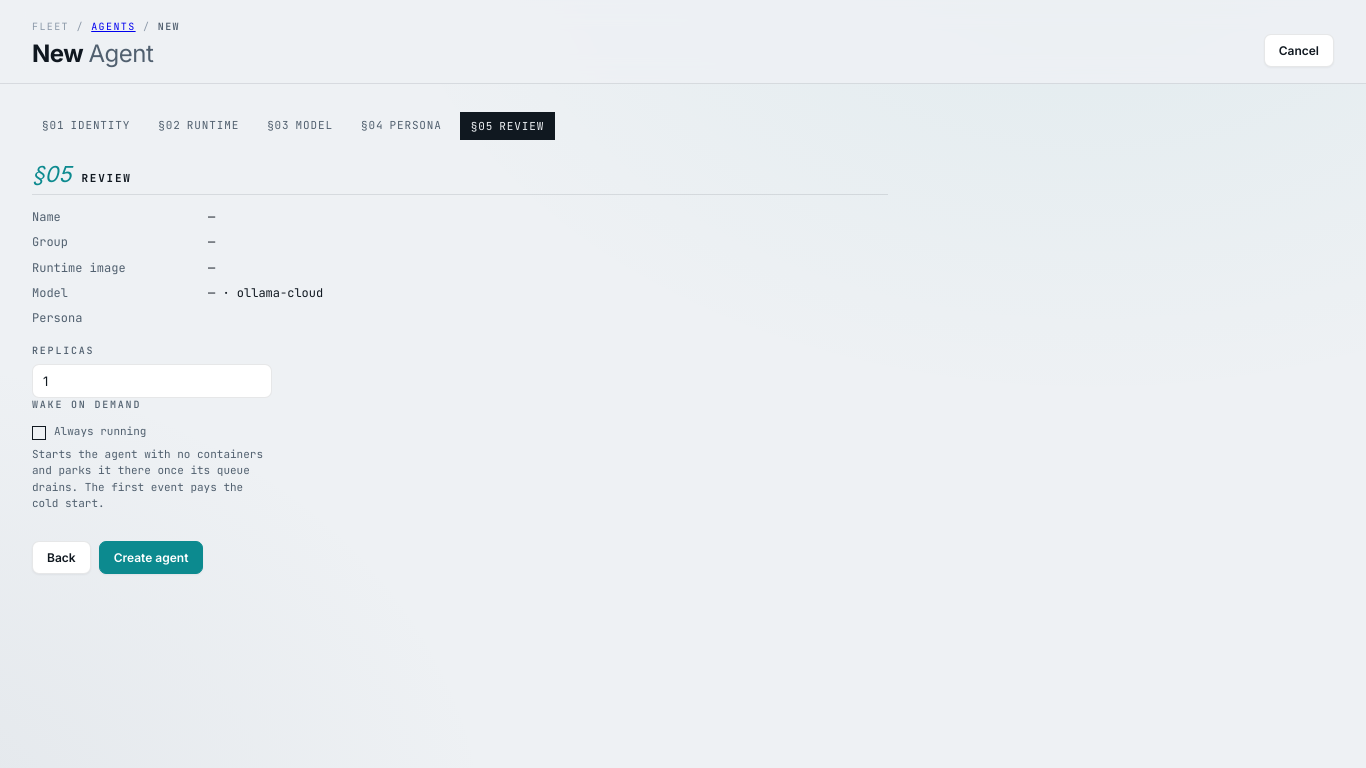
it: AgentWizard › sends the user back to the first invalid step when submitting from a deep link
Click the button "Create agent" at coordinates (151, 557), box left=99, top=541, right=203, bottom=574
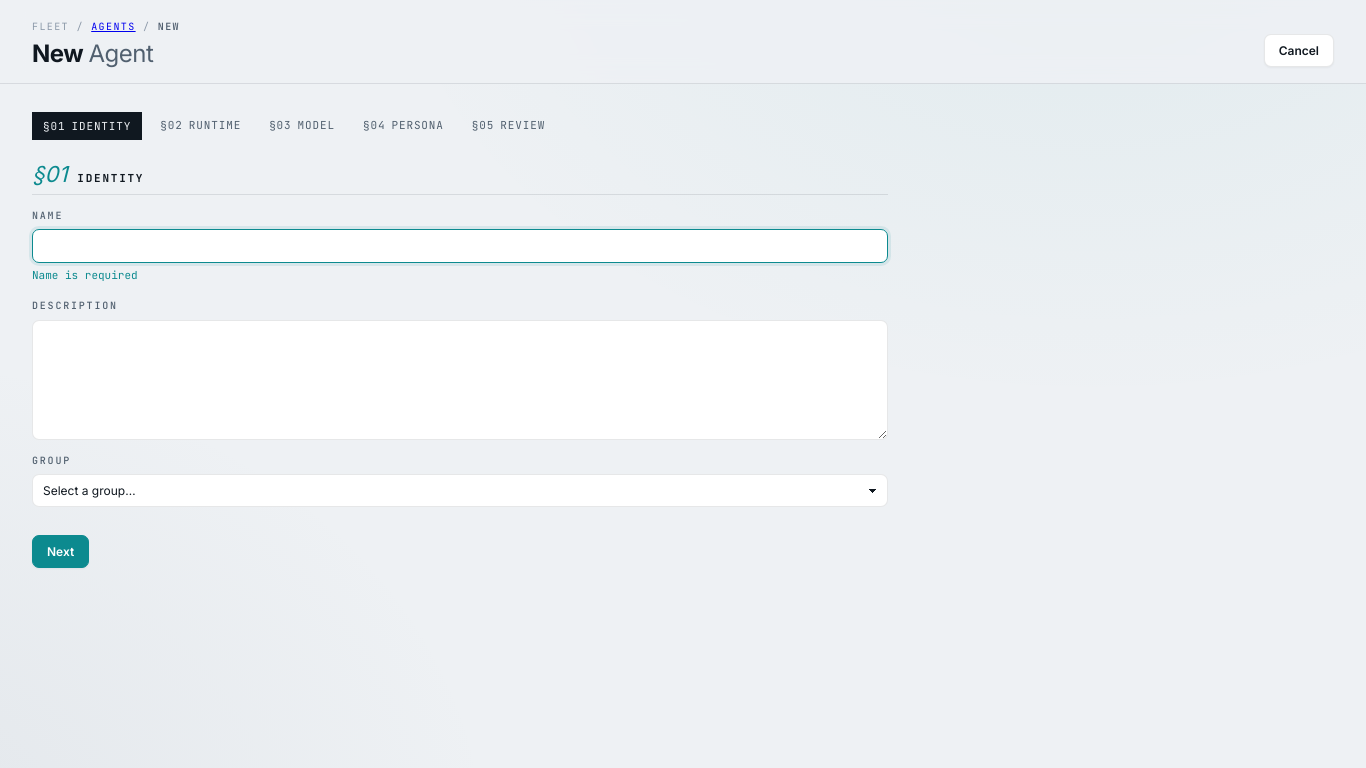
Expected: the field labelled "Name" is shown, left=32, top=229, right=888, bottom=263
Expected: the text "Name is required" is shown, left=32, top=269, right=138, bottom=283
